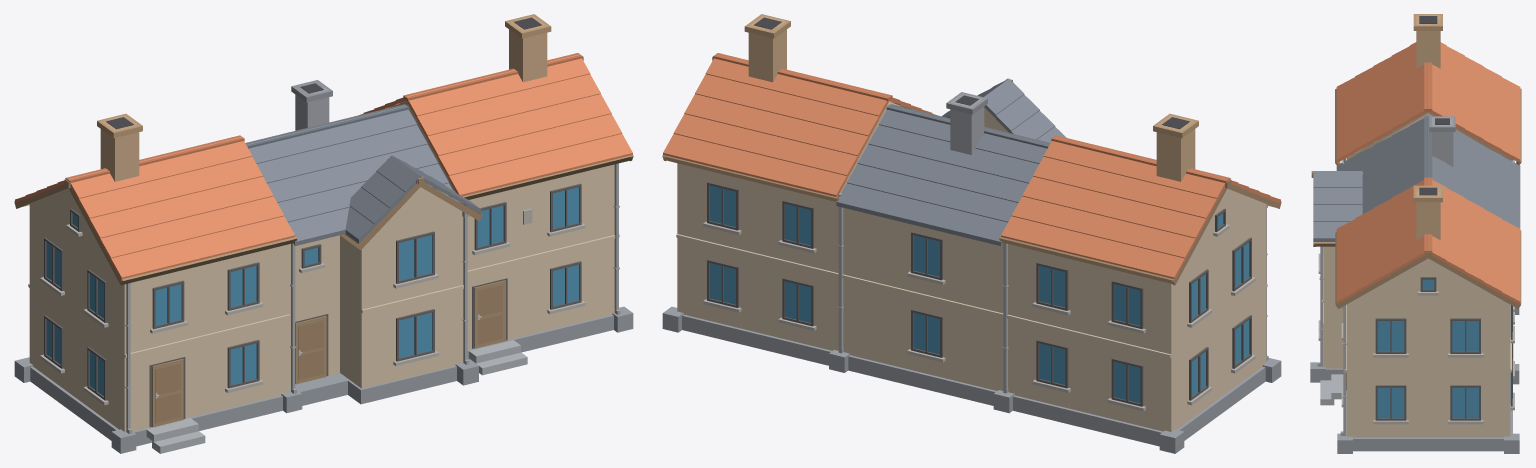
File: mills q4 worker house d.fbx
The picture shows the model from 3 angles, left to right: view 1: azimuth 30°, elevation 25°; view 2: azimuth 150°, elevation 25°; view 3: azimuth 270°, elevation 25°; orthographic projection. The views are drawn at different scales.
Parts seen in each view (by area): view 1: Door_Unit_3_Panel_T; view 2: Door_Unit_3_Panel_T; view 3: Door_Unit_3_Panel_T.
Boxes of the visible parts, <box> form: Door_Unit_3_Panel_T: <box>14,14,633,453</box>; Door_Unit_3_Panel_T: <box>662,14,1281,453</box>; Door_Unit_3_Panel_T: <box>1310,14,1521,453</box>.
Bounding box in the file's own units: 1438 × 746 × 594.
